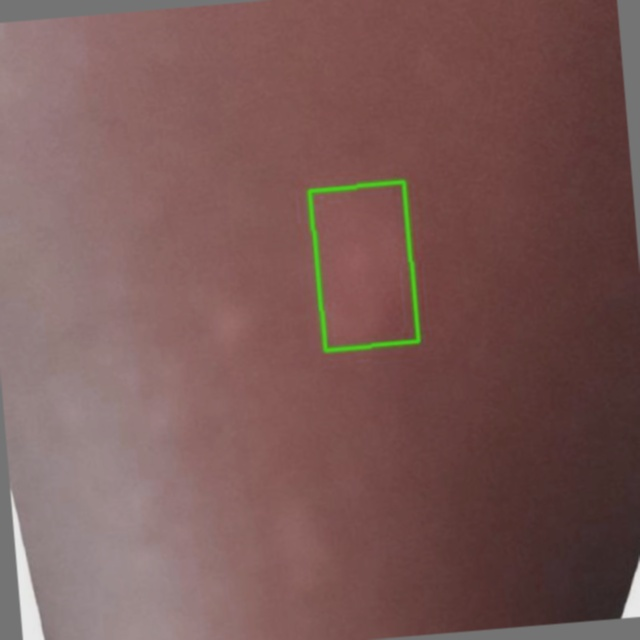Tinea Corporis: (309, 182, 418, 350)
